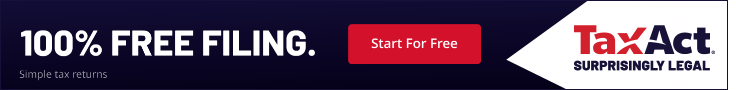fake_button: (342, 19, 488, 74)
